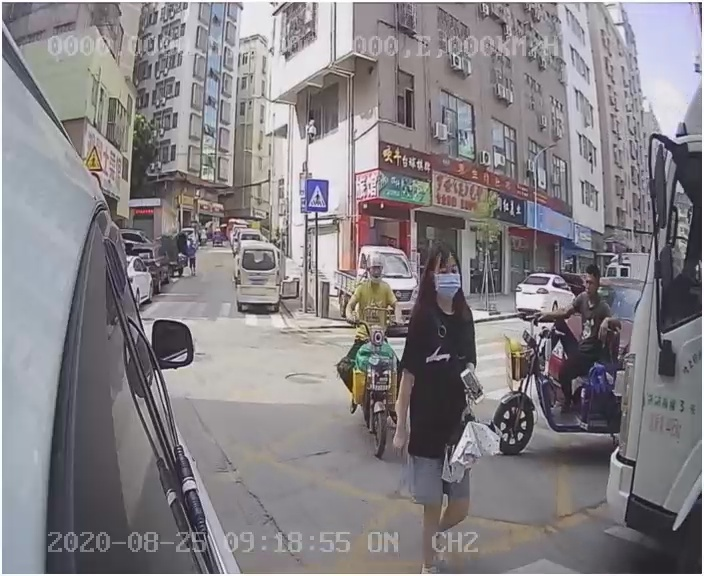person: (392, 250, 506, 542)
